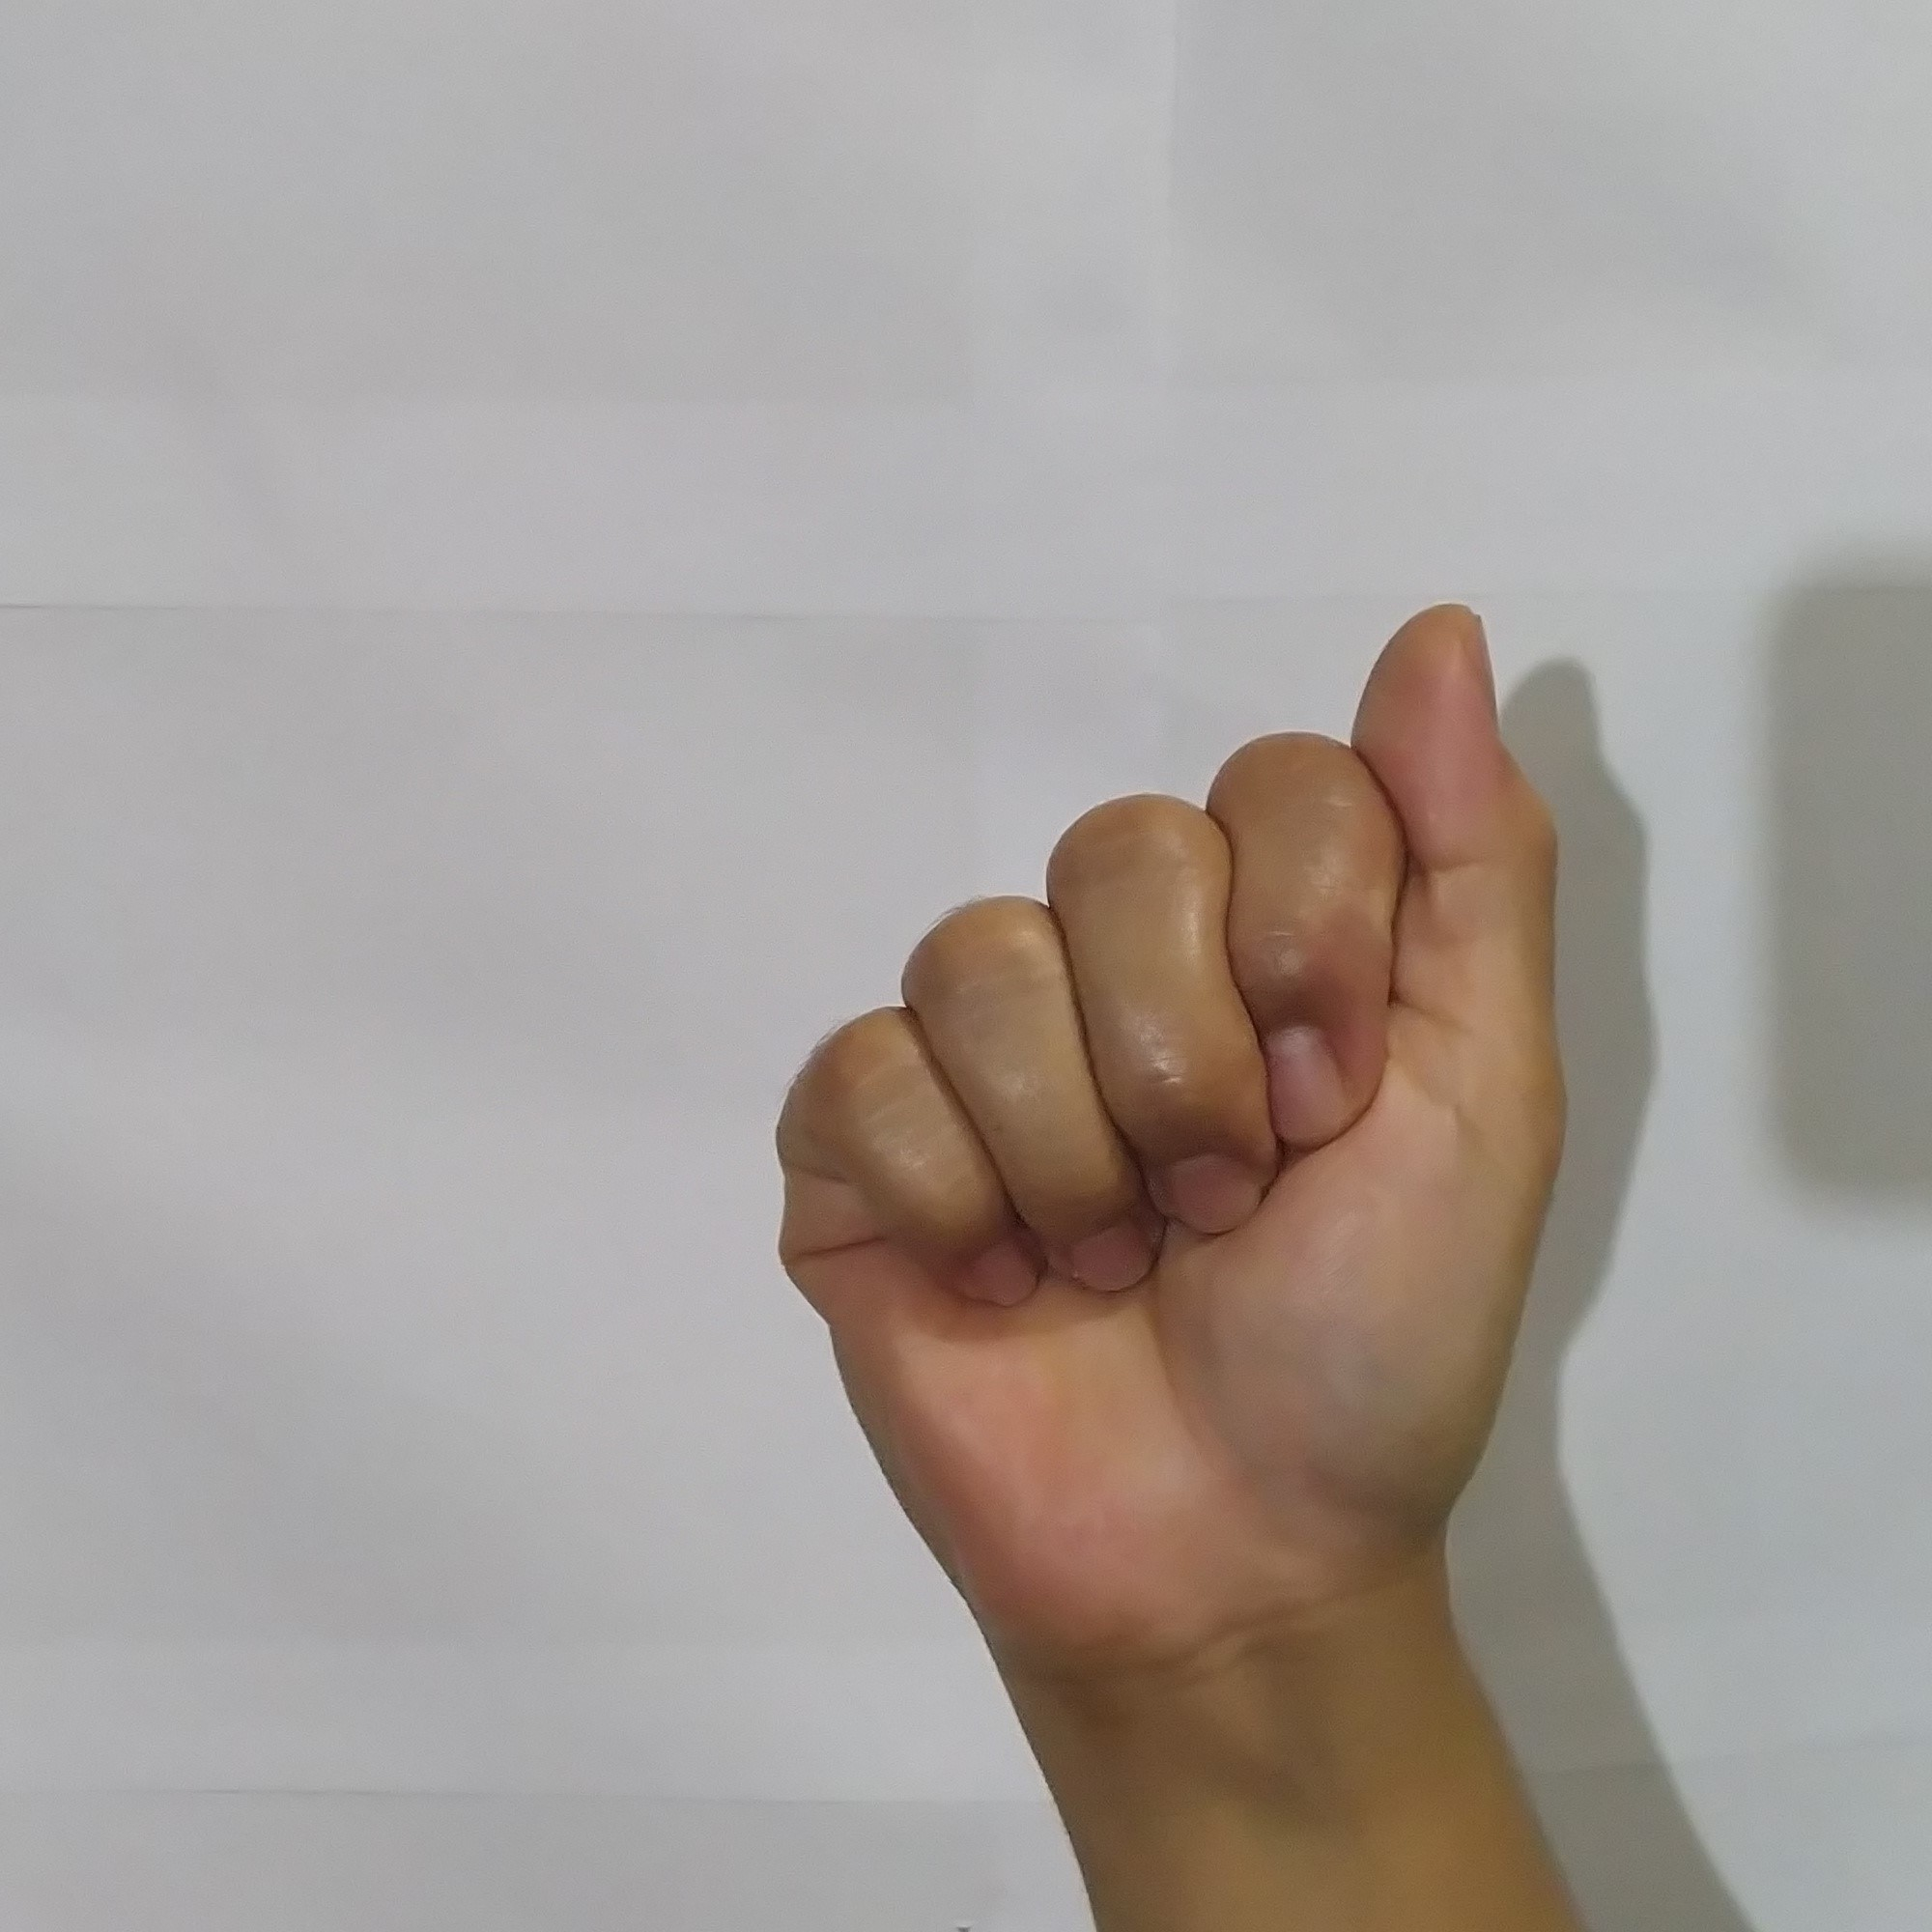A: (731, 577, 1598, 1637)
